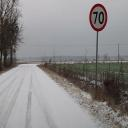speed_limit_70: (88, 2, 108, 34)
